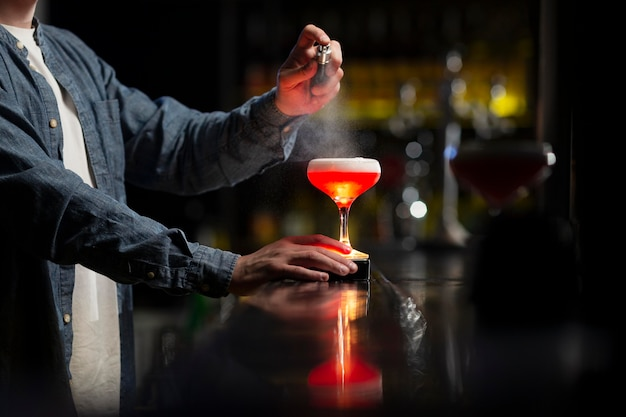alcohol: (307, 155, 381, 264)
